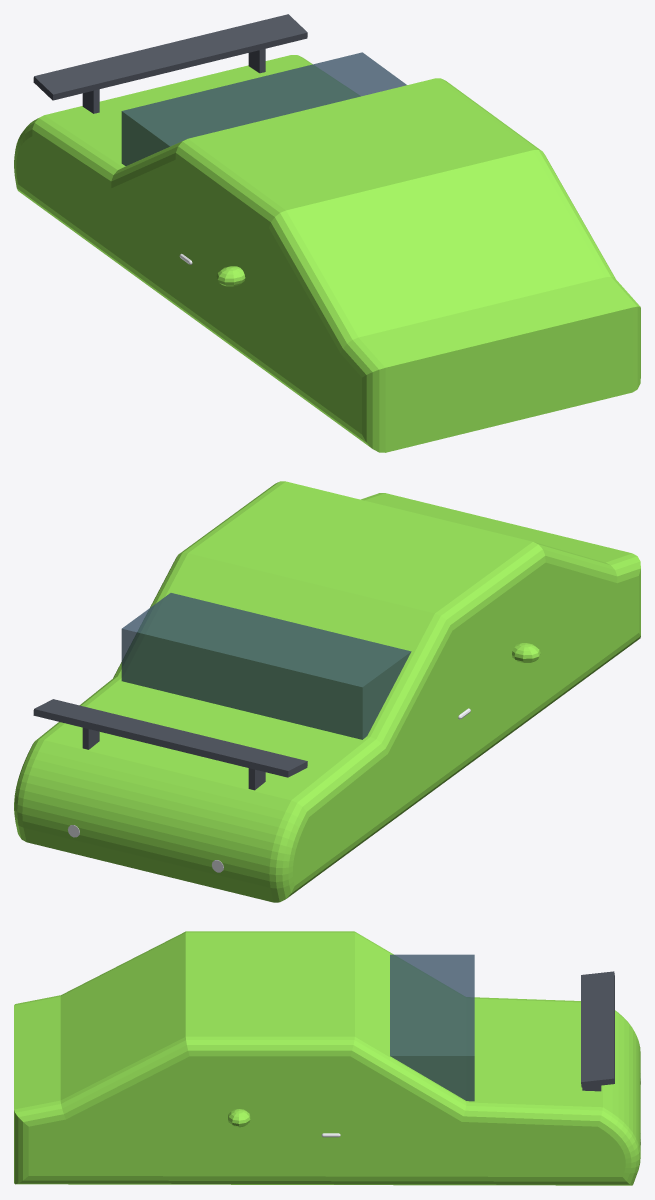
File: veh_zenit.glb
The picture shows the model from 3 angles, top to bottom: view 1: azimuth 30°, elevation 25°; view 2: azimuth 150°, elevation 25°; view 3: azimuth 270°, elevation 25°; orthographic projection. The views are drawn at different scales.
Parts seen in each view (by area): view 1: veh_zenit; view 2: veh_zenit; view 3: veh_zenit.
Boxes of the visible parts, x1,y1,x2,y2 form: veh_zenit: [14, 14, 640, 452]; veh_zenit: [14, 481, 640, 902]; veh_zenit: [14, 931, 640, 1185].
Bounding box in the file's own units: 2.38 × 1.21 × 4.66.
